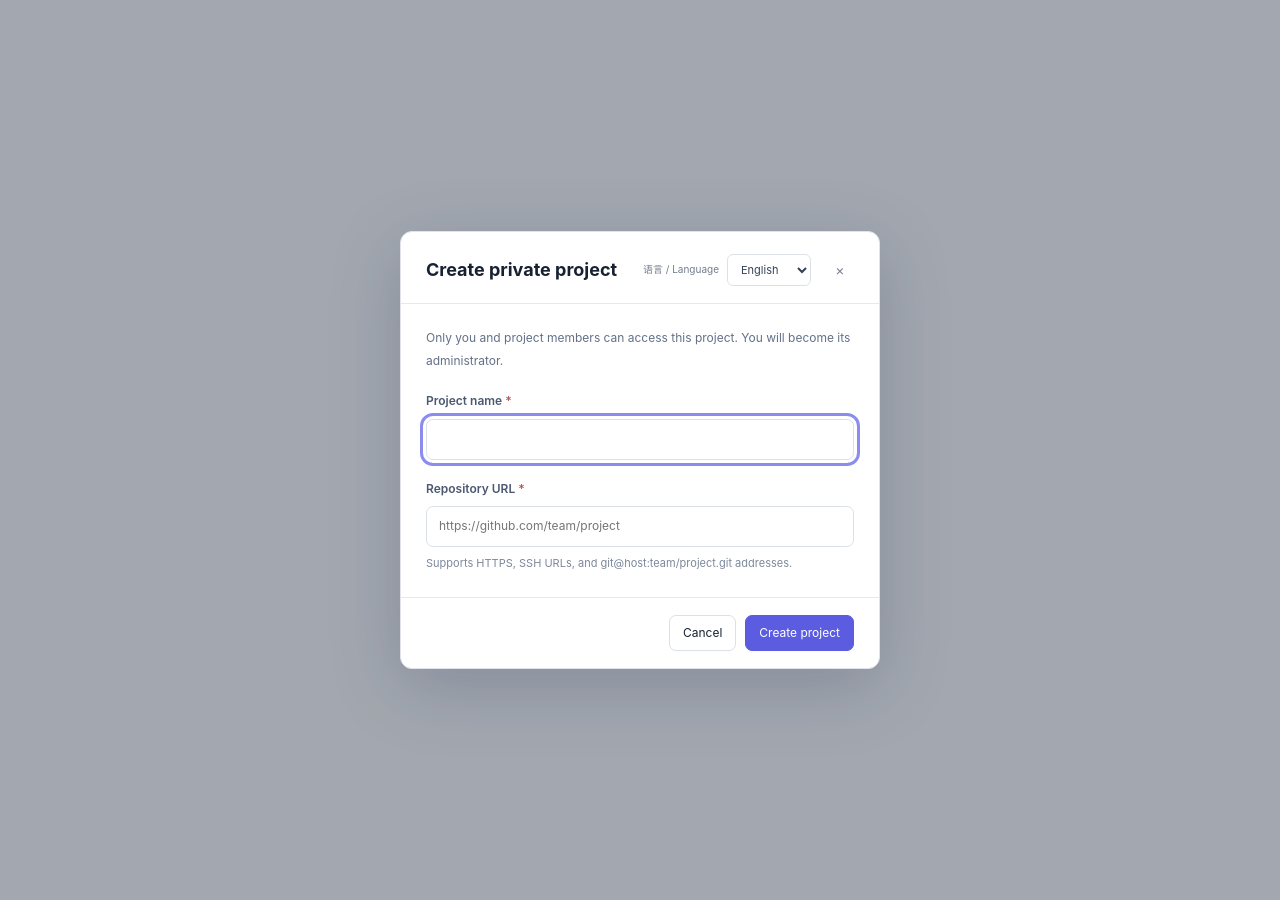
authentication language changes › keeps a pending private project form and translates its eventual error inside the native modal
Type "项目 Raw" into the field labelled "Project name *" at [640, 439], box [426,419,854,460]
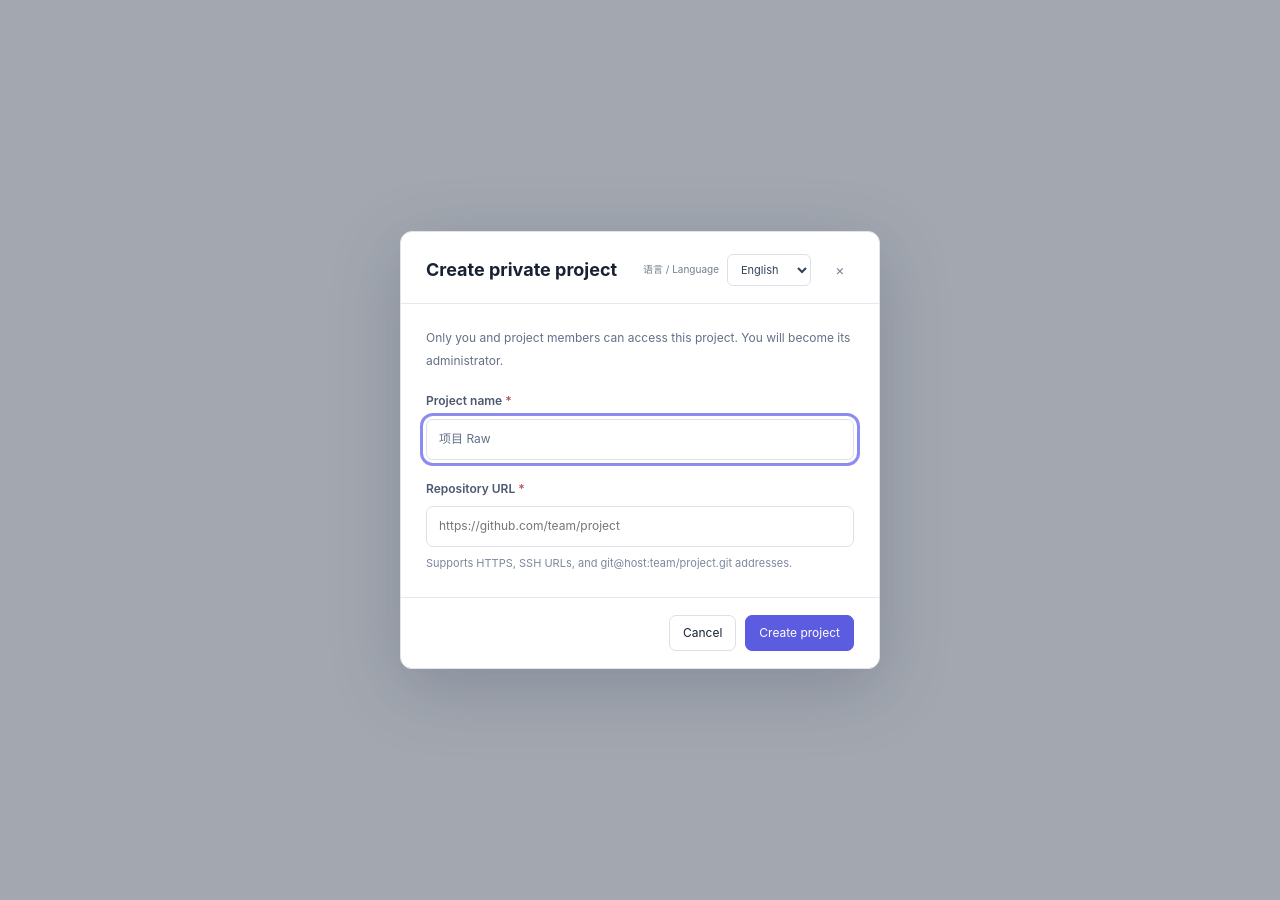
Type "https://example.com/raw" into the field labelled "Repository URL *" at [640, 526], box [426,506,854,547]
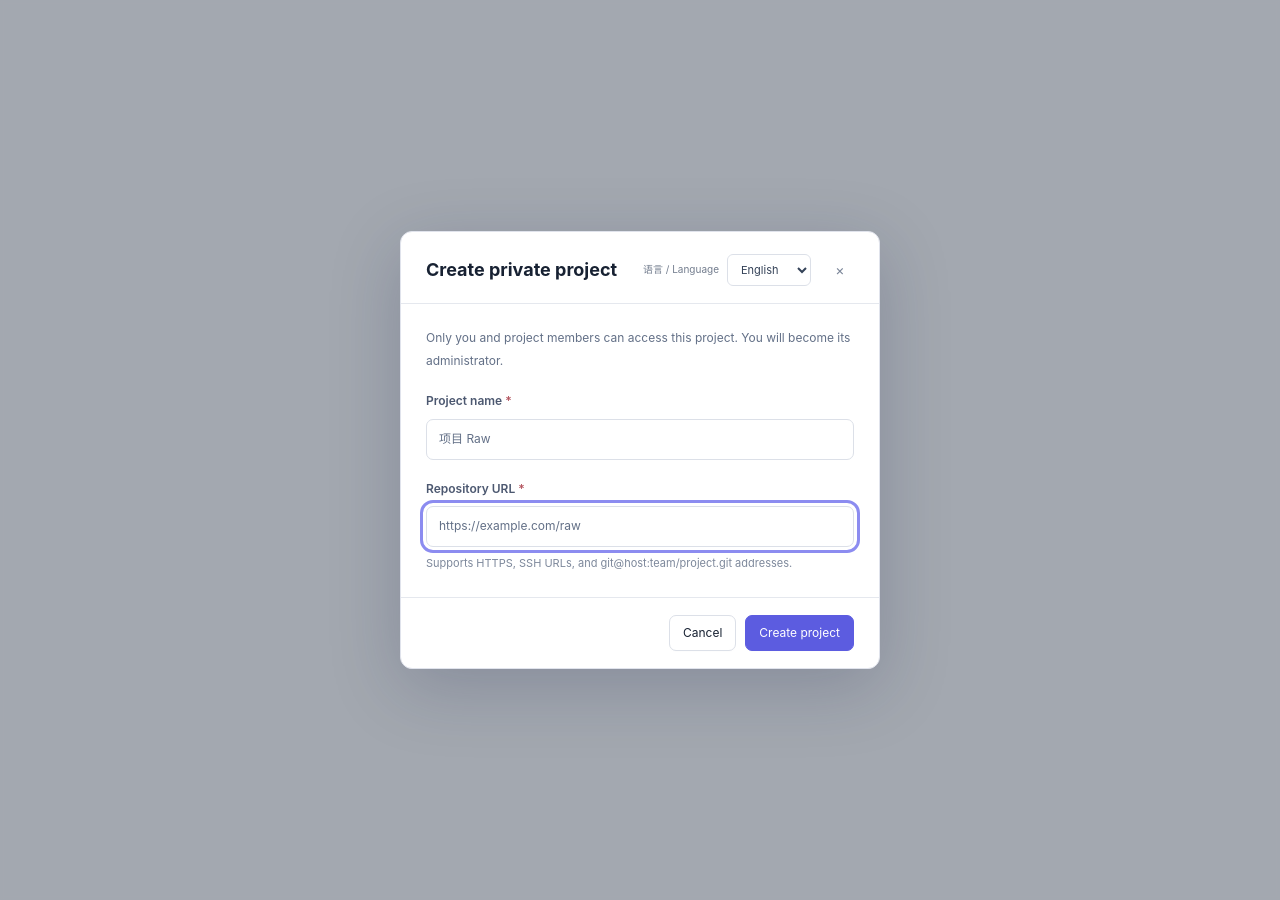
Click the button "Create project" at [800, 633], box [745,615,854,651]
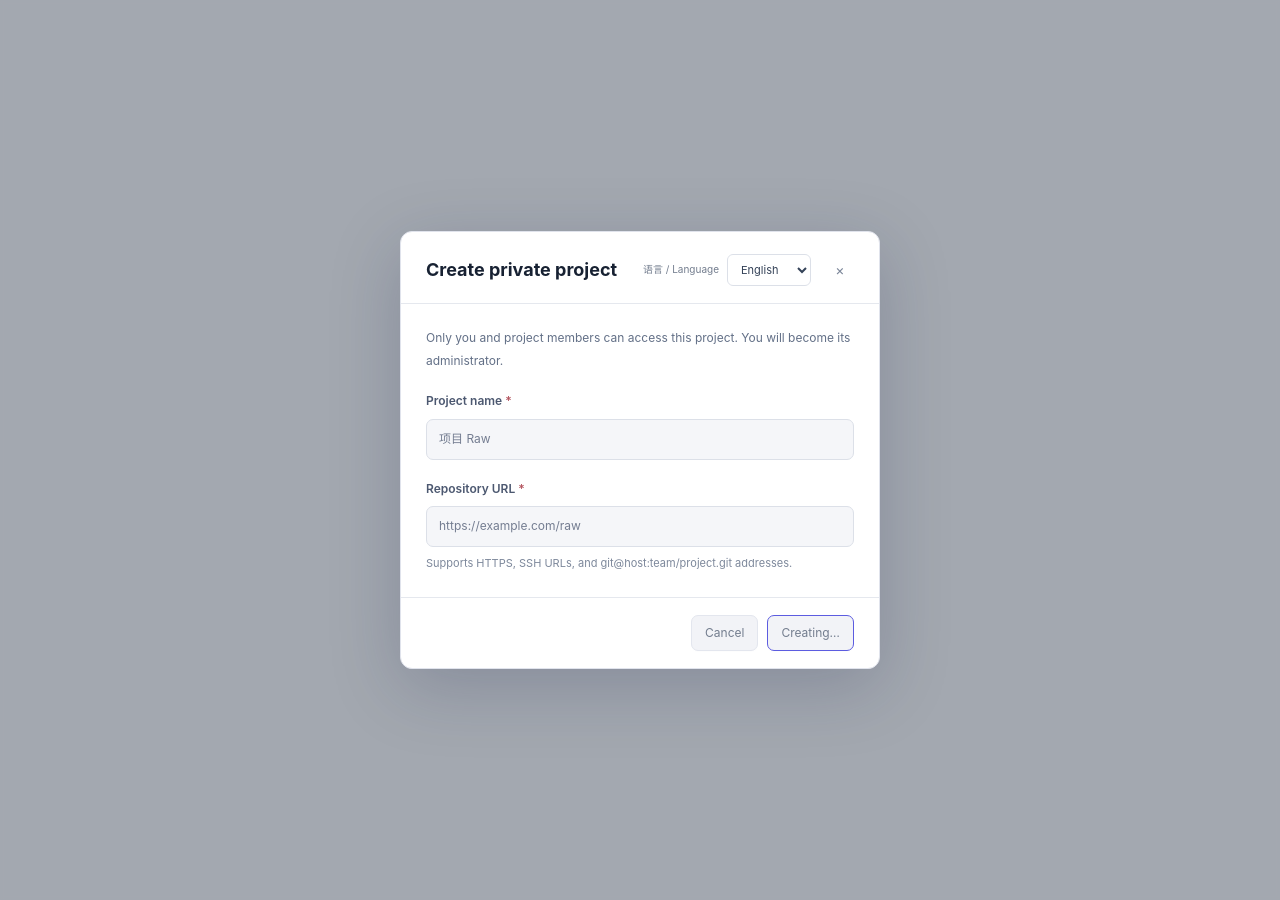
Select "简体中文" in the dropdown labelled "语言 / Language" at [769, 270], box [727,254,811,286]
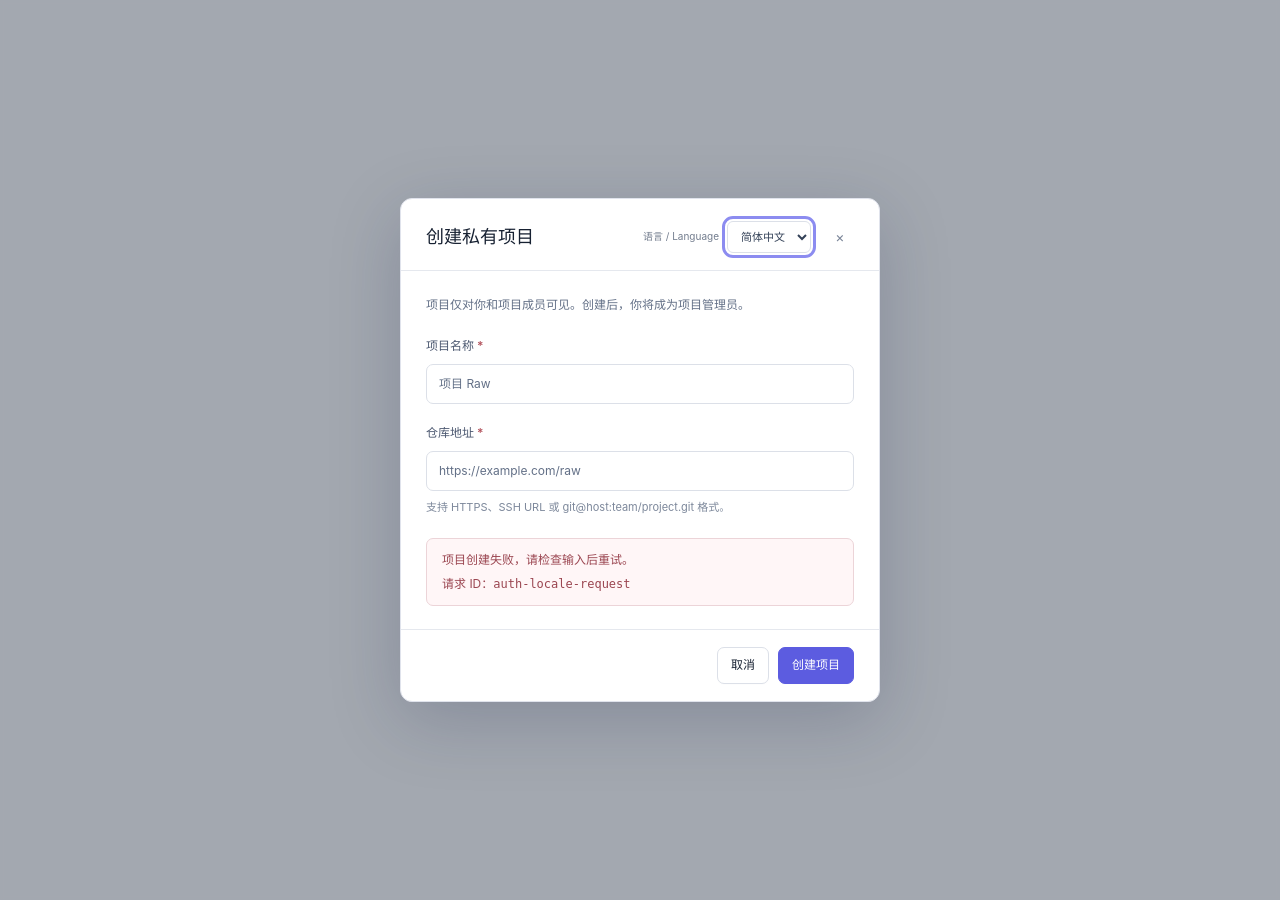
Expected: the message shows "项目创建失败，请检查输入后重试。", [442,552,634,567]
Expected: the text "auth-locale-request" is shown, [493,577,631,591]
